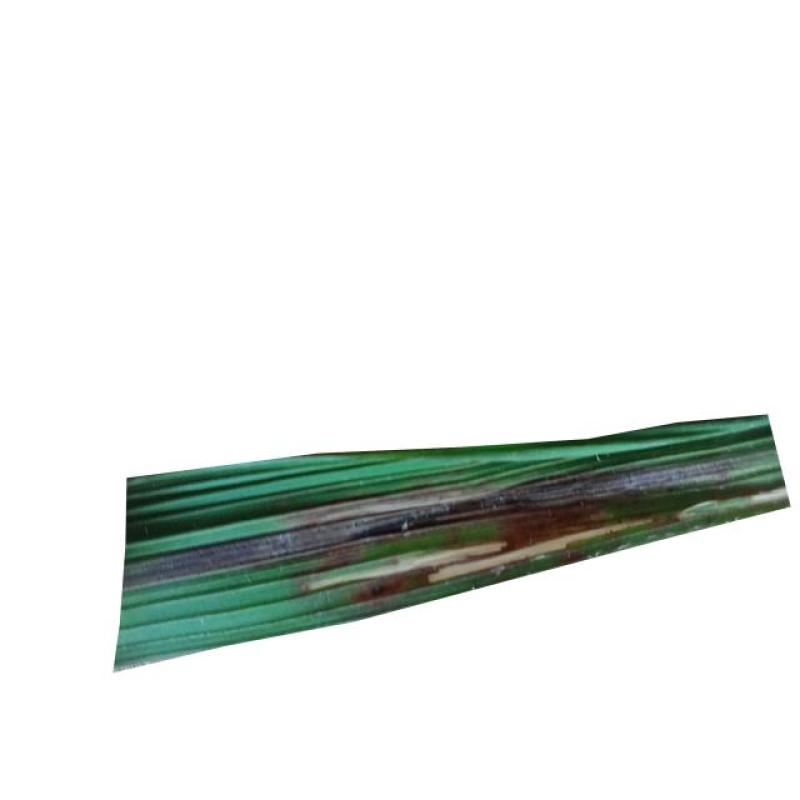Bacterial_Leaf_Blight: (258, 462, 528, 586), (545, 470, 736, 534)
